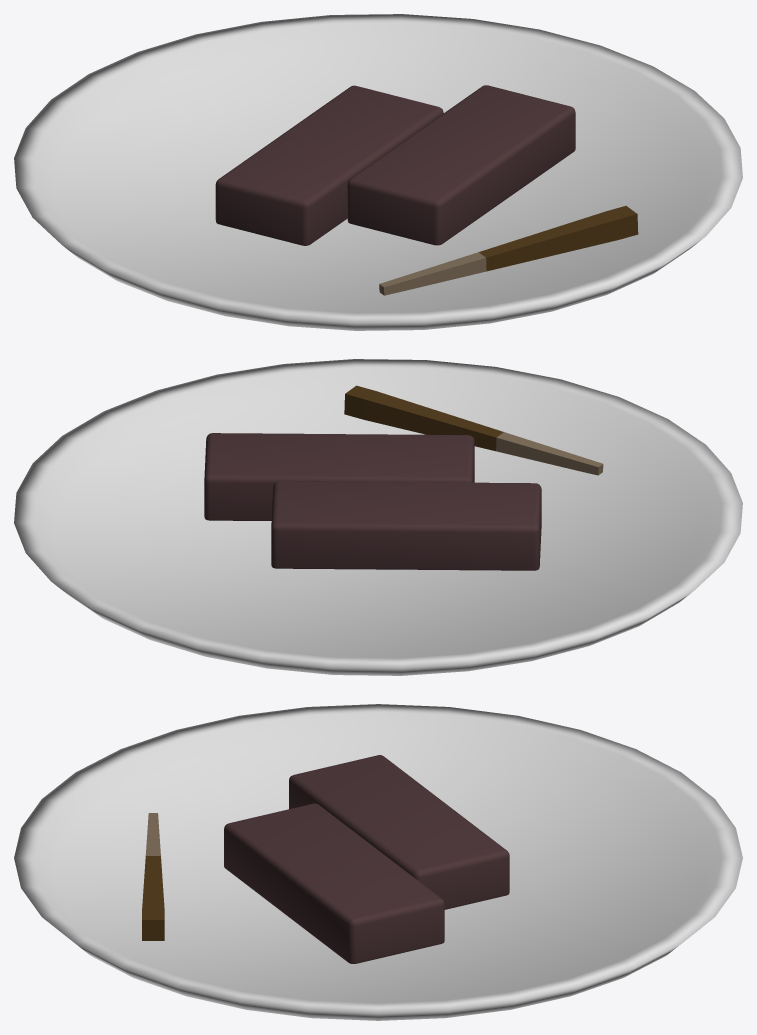
File: youkan.glb
3 renders of one model, top to bottom at view 1: azimuth 30°, elevation 25°; view 2: azimuth 150°, elevation 25°; view 3: azimuth 270°, elevation 25°, orthographic.
Visible parts, largest first — view 1: 円, Cube.001, Cube, 立方体; view 2: 円, Cube, Cube.001, 立方体; view 3: 円, Cube.001, Cube, 立方体.
Boxes of the visible parts, x1,y1,x2,y2 form: 円: (14, 14, 742, 330); Cube.001: (347, 85, 575, 245); Cube: (215, 85, 443, 245); 立方体: (379, 206, 638, 295); 円: (14, 359, 742, 675); Cube: (271, 481, 541, 570); Cube.001: (204, 433, 474, 520); 立方体: (344, 385, 603, 475); 円: (14, 704, 742, 1020); Cube.001: (224, 803, 444, 963); Cube: (289, 755, 509, 909); 立方体: (142, 813, 164, 940).
Size of the model in its own units: 13.33 by 1.19 by 13.33.
